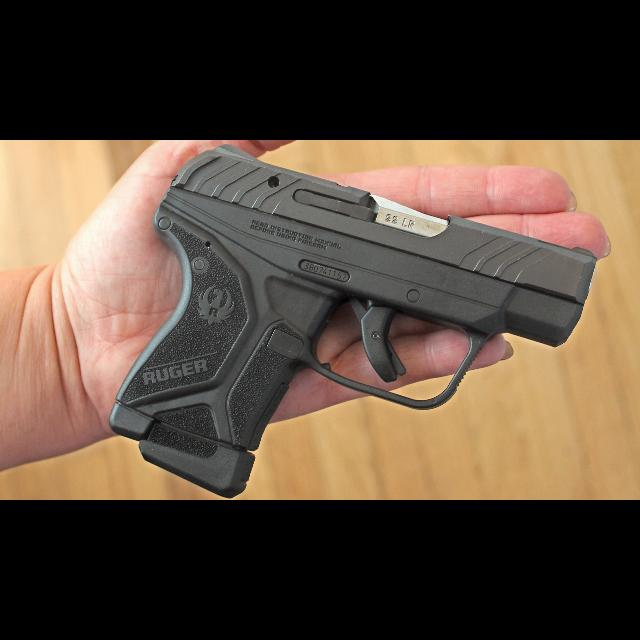handgun: (105, 140, 599, 500)
